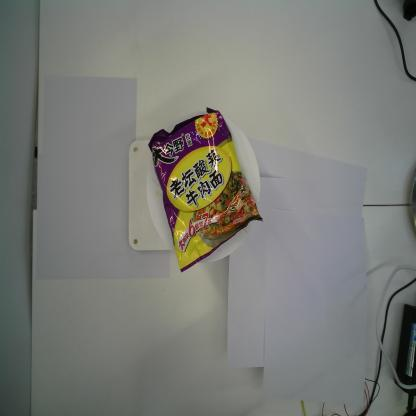Instant Noodles: (147, 106, 263, 274)
